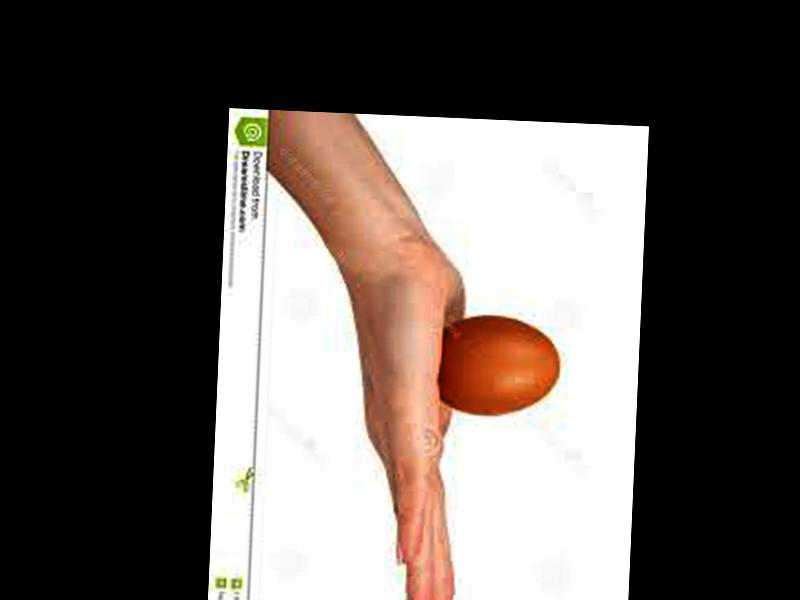Eggs: (434, 315, 561, 419)
